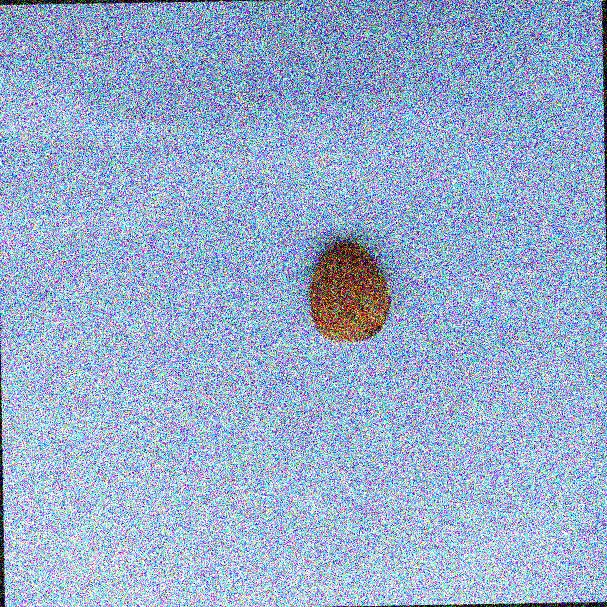grade1: (299, 233, 397, 349)
